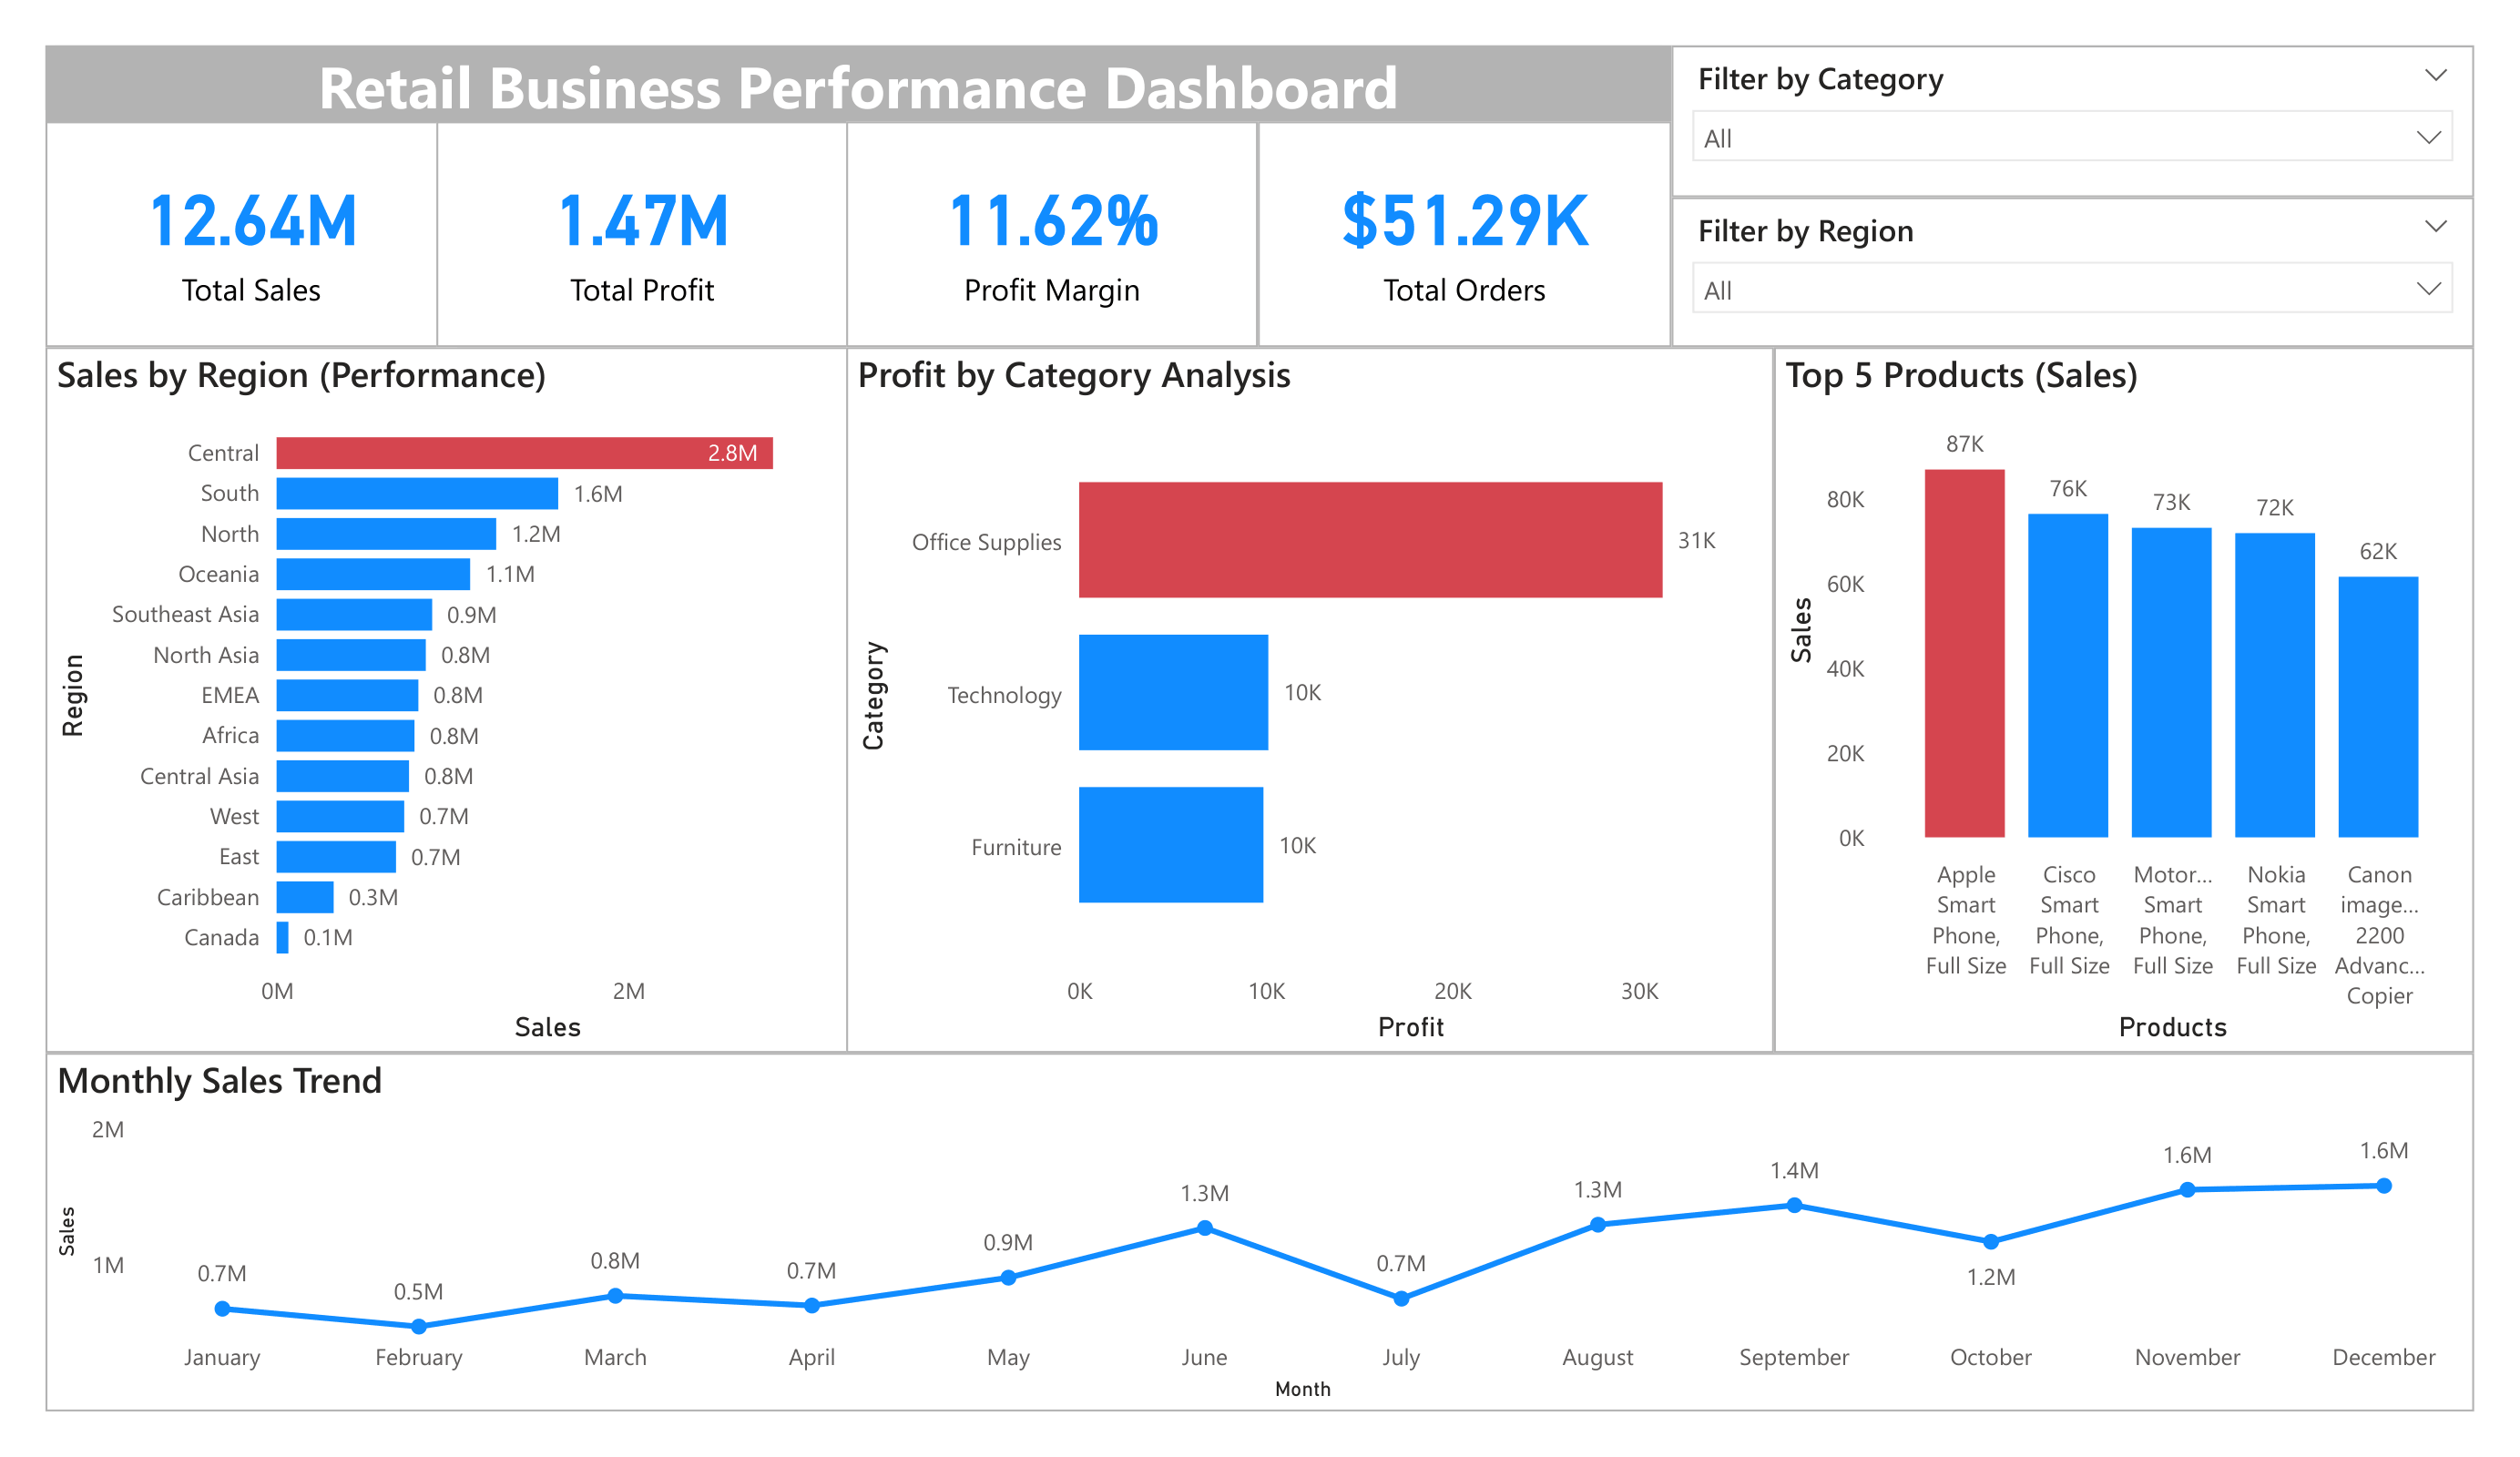

The page's visual inventory and layout, read from the dashboard file:
{"tool":"powerbi","page":{"name":"Page 1","canvas":[1280,720],"ordinal":0},"visuals":[{"type":"clusteredBarChart","title":"Sales by Region (Performance)","fields":{"Category":["SuperStoreOrders.region","SuperStoreOrders.country"],"Y":["Sum(SuperStoreOrders.sales)"]},"box":[0,159.3,423.5,371.6],"z":0},{"type":"clusteredBarChart","title":"Profit by Category Analysis","fields":{"Category":["SuperStoreOrders.category","SuperStoreOrders.sub_category"],"Y":["CountNonNull(SuperStoreOrders.product_name)"]},"box":[422.3,159.3,488.6,371.6],"z":1000},{"type":"lineChart","title":"Monthly Sales Trend","fields":{"Category":["SuperStoreOrders.order_date.Variation.Date Hierarchy.Month"],"Y":["Sum(SuperStoreOrders.sales)"]},"box":[0,531.2,1280,188.8],"z":2000},{"type":"card","fields":{"Values":["SuperStoreOrders.Total Sales"]},"box":[0,39.8,217.2,119.4],"z":3000},{"type":"card","fields":{"Values":["SuperStoreOrders.Total Profit"]},"box":[206.3,39.8,217.2,119.4],"z":4000},{"type":"slicer","fields":{"Values":["SuperStoreOrders.region"]},"box":[856.6,79.6,423.5,79.6],"z":5000},{"type":"slicer","fields":{"Values":["SuperStoreOrders.category"]},"box":[856.6,0,423.5,79.6],"z":6000},{"type":"clusteredColumnChart","title":"Top 5 Products (Sales)","fields":{"Category":["SuperStoreOrders.product_name"],"Y":["Sum(SuperStoreOrders.sales)"]},"box":[910.9,159.3,369.2,371.6],"z":7000},{"type":"textbox","title":"Retail Business Performance Dashboard","box":[0,0,856.6,39.8],"z":8000},{"type":"card","fields":{"Values":["SuperStoreOrders.Profit Margin"]},"box":[422.3,39.8,217.2,119.4],"z":9000},{"type":"card","fields":{"Values":["SuperStoreOrders.Avg Sales"]},"box":[639.4,39.8,217.2,119.4],"z":10000}]}

Visuals, with their boxes on the page's 1280x720 design canvas (x1, y1, x2, y2). These are canvas units, not pixel positions in the 2520x1457 screenshot, which may show the page scaled, cropped or inside an application window:
"Sales by Region (Performance)" clusteredBarChart: locate(0, 159, 424, 531)
"Profit by Category Analysis" clusteredBarChart: locate(422, 159, 911, 531)
"Monthly Sales Trend" lineChart: locate(0, 531, 1280, 720)
card - SuperStoreOrders.Total Sales: locate(0, 40, 217, 159)
card - SuperStoreOrders.Total Profit: locate(206, 40, 424, 159)
slicer - SuperStoreOrders.region: locate(857, 80, 1280, 159)
slicer - SuperStoreOrders.category: locate(857, 0, 1280, 80)
"Top 5 Products (Sales)" clusteredColumnChart: locate(911, 159, 1280, 531)
"Retail Business Performance Dashboard" textbox: locate(0, 0, 857, 40)
card - SuperStoreOrders.Profit Margin: locate(422, 40, 640, 159)
card - SuperStoreOrders.Avg Sales: locate(639, 40, 857, 159)
